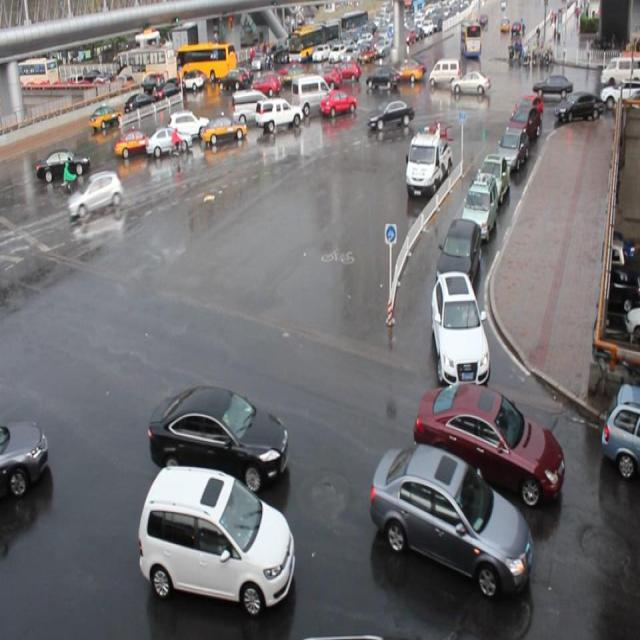bus: (405, 129, 451, 196)
car: (369, 442, 532, 596), (137, 465, 295, 609), (413, 382, 565, 504), (151, 384, 290, 489), (430, 268, 488, 384), (598, 381, 640, 471), (1, 416, 49, 494), (436, 213, 481, 292), (68, 171, 124, 220), (460, 173, 498, 242), (473, 150, 509, 208), (38, 145, 91, 177), (367, 97, 413, 131), (202, 112, 247, 146), (255, 98, 302, 130), (495, 124, 527, 170), (507, 106, 539, 150), (168, 110, 211, 139), (146, 126, 192, 153), (517, 94, 543, 132), (115, 128, 156, 152), (321, 90, 358, 115)
truck: (292, 77, 333, 113), (232, 90, 274, 122)
